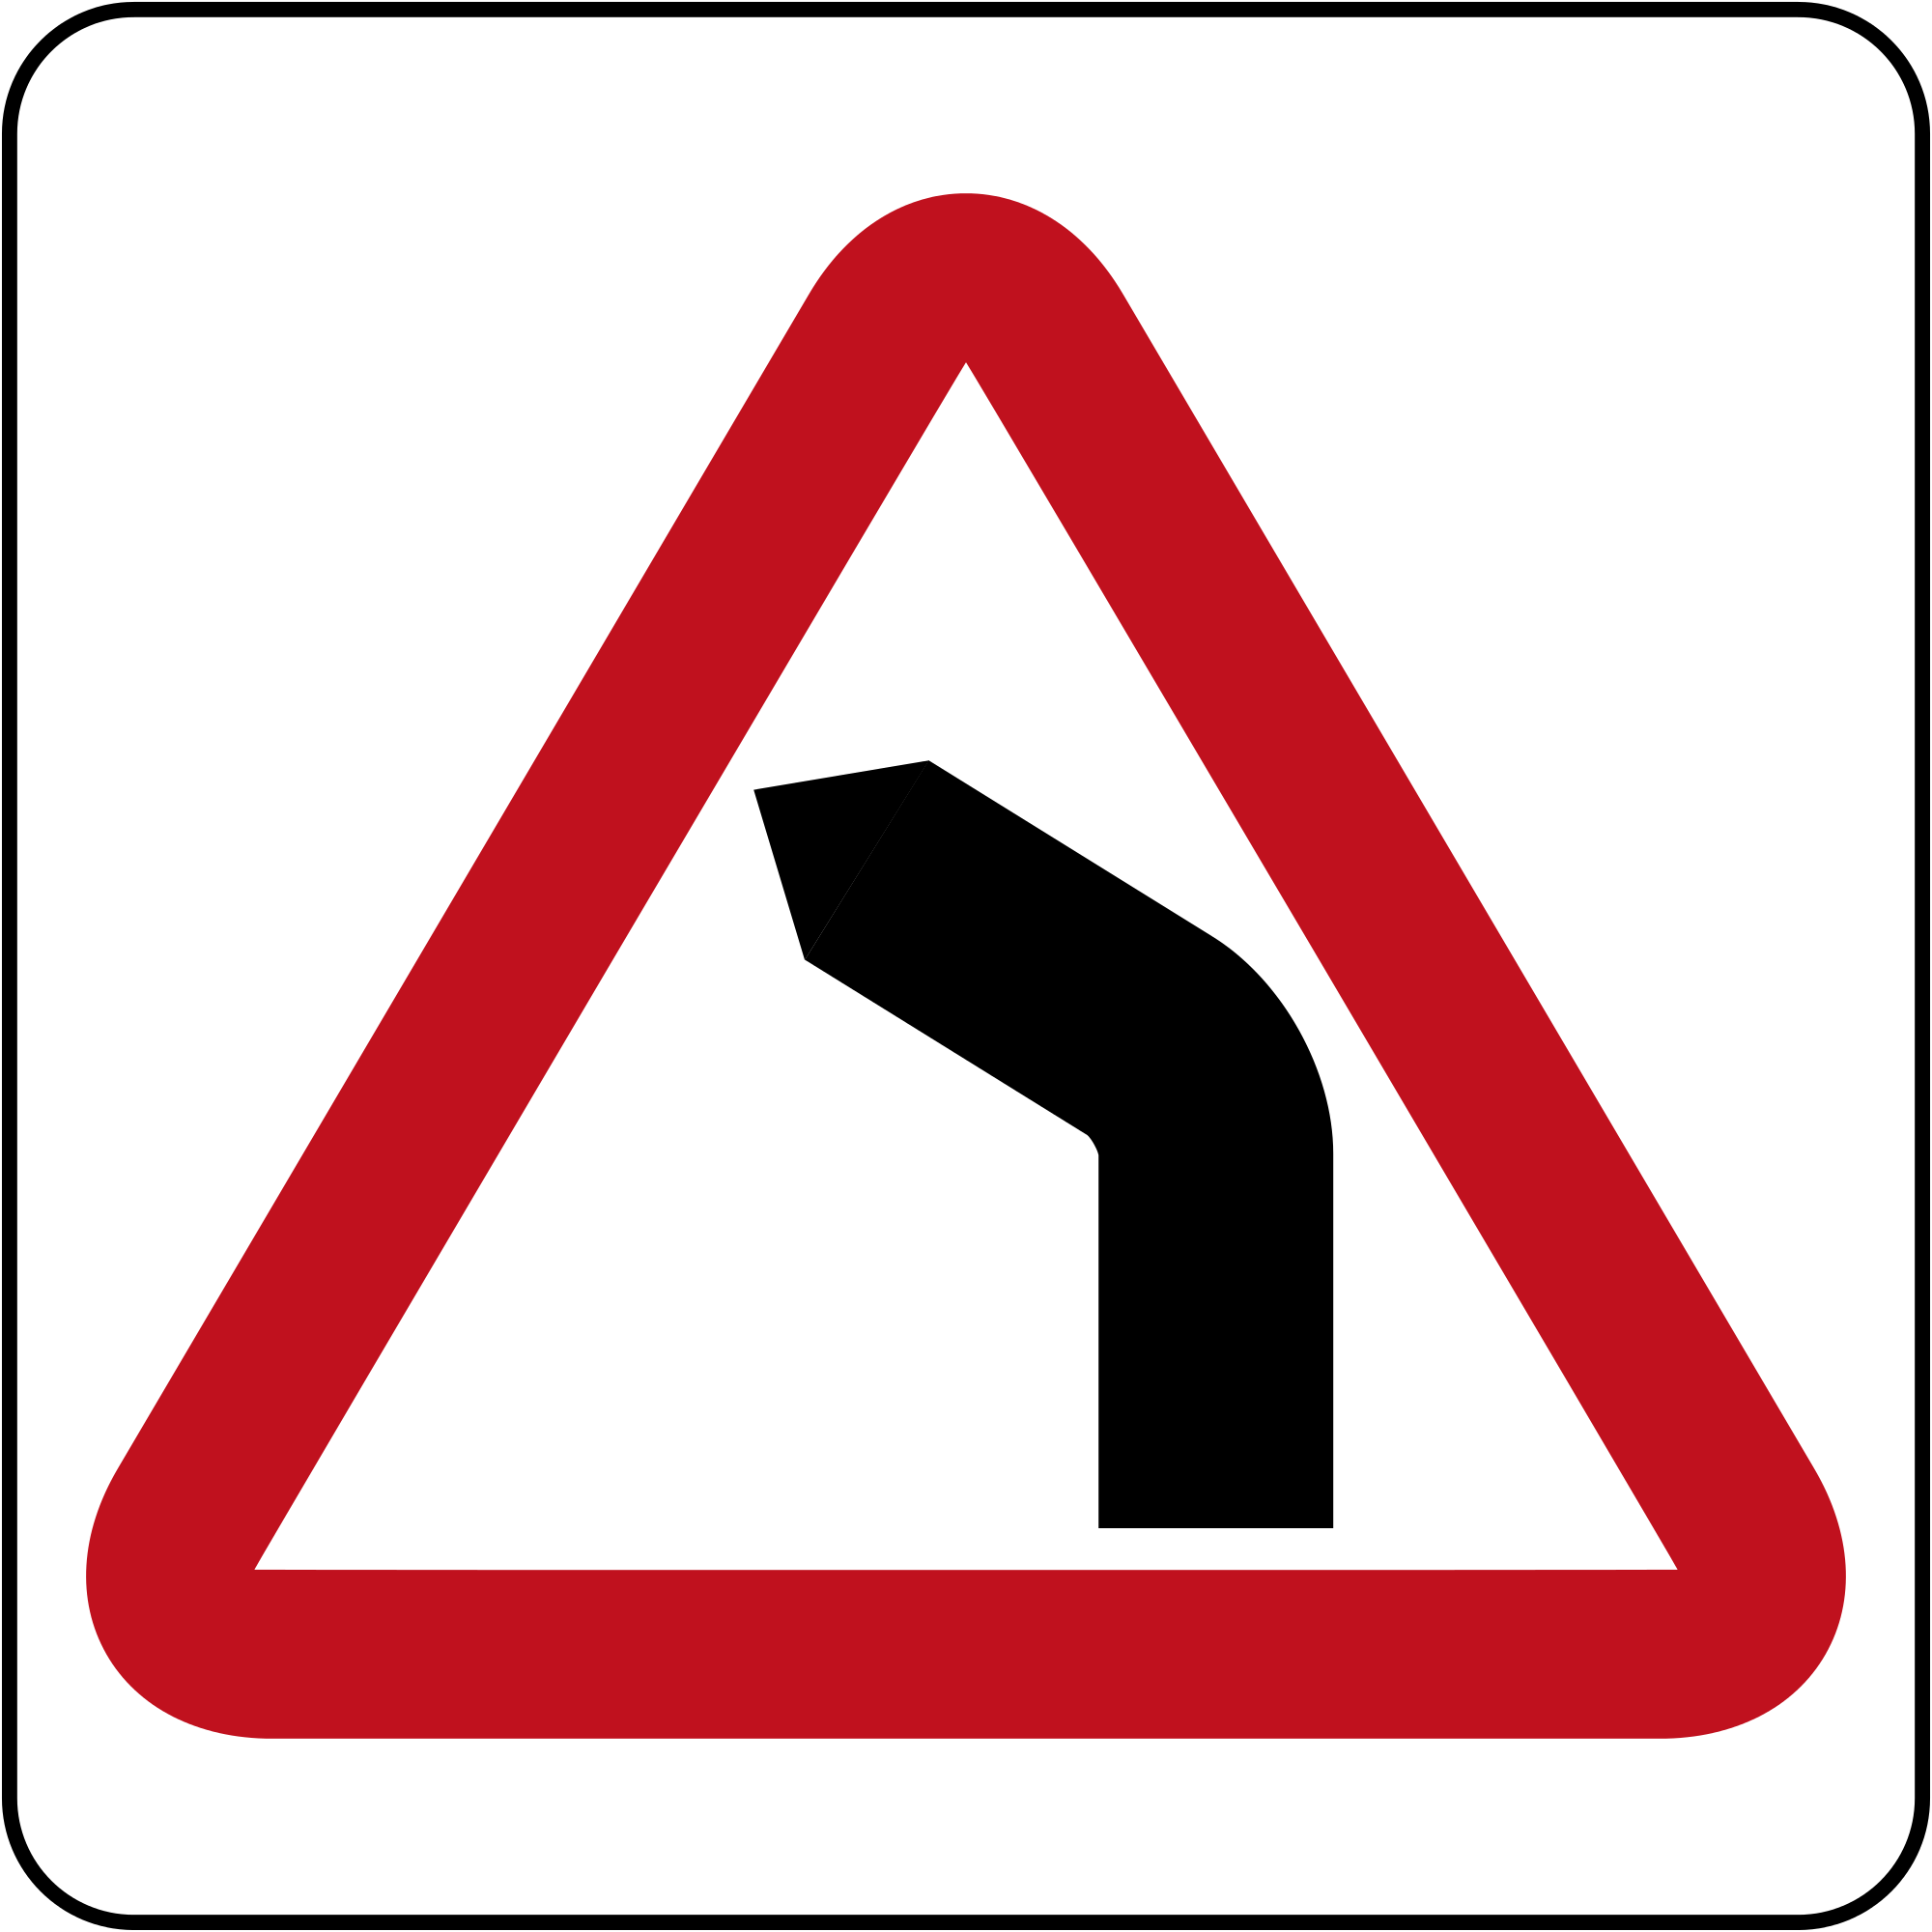Bend_to_left: (78, 193, 1851, 1746)
